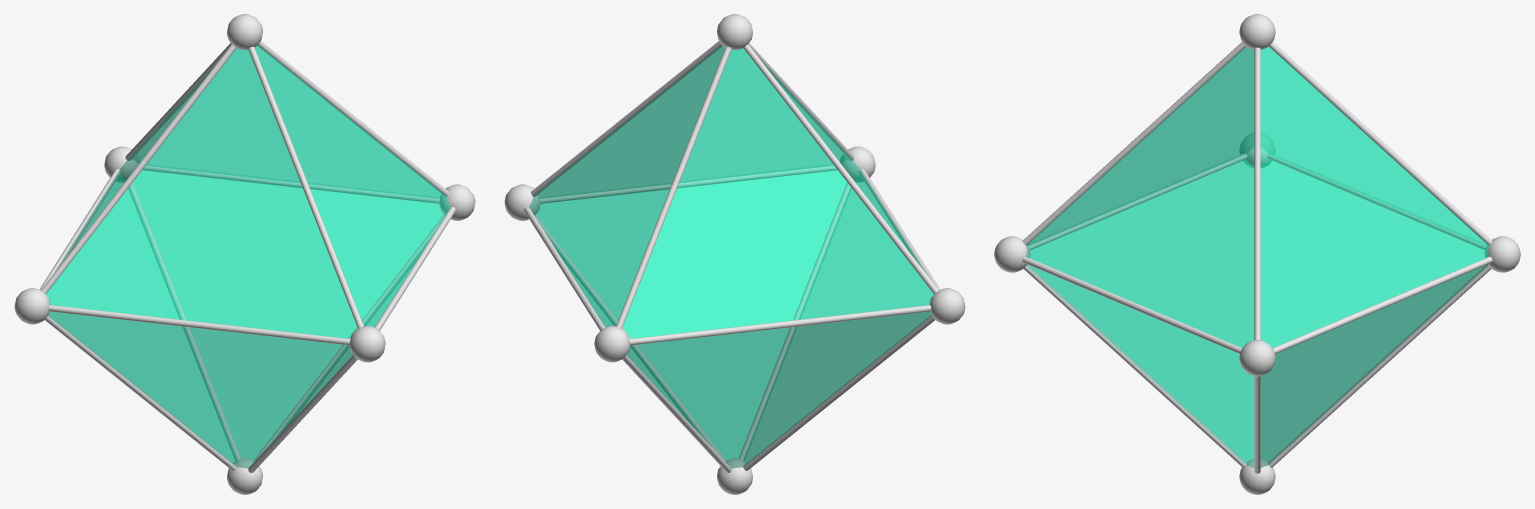
Rendered from andreTesting.fbx.
3 views of the same model, side by side, from view 1: azimuth 30°, elevation 25°; view 2: azimuth 150°, elevation 25°; view 3: azimuth 270°, elevation 25° (orthographic).
Parts seen in each view (by area): view 1: Platonic, Platonic_1; view 2: Platonic, Platonic_1; view 3: Platonic, Platonic_1.
Boxes of the visible parts, x1,y1,x2,y2 form: Platonic: [46, 45, 450, 468]; Platonic_1: [14, 14, 475, 494]; Platonic: [529, 45, 933, 468]; Platonic_1: [504, 14, 965, 494]; Platonic: [1026, 46, 1488, 467]; Platonic_1: [994, 14, 1520, 494].
Bounding box in the file's own units: 215 × 215 × 215.
